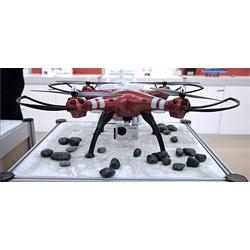drone: (13, 79, 242, 162)
